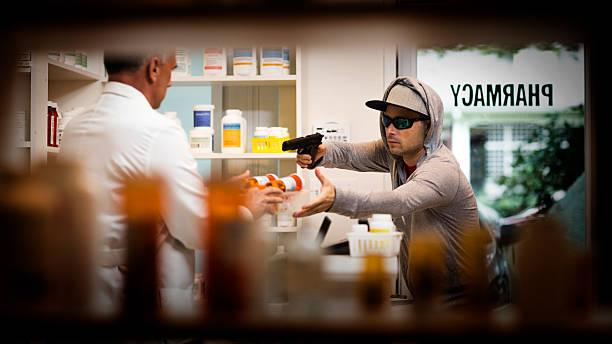weapon: (281, 128, 326, 168)
